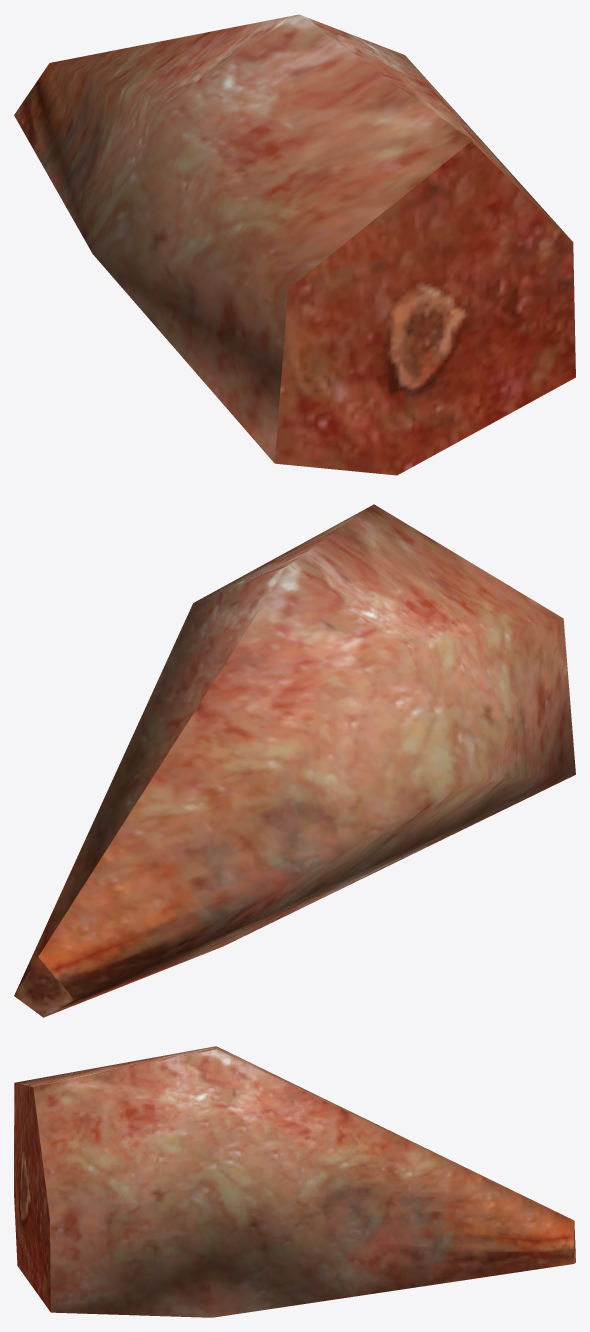
Rendered from edb_all_meat_s01_l2.fbx.
3 renders of one model, top to bottom at view 1: azimuth 30°, elevation 25°; view 2: azimuth 150°, elevation 25°; view 3: azimuth 270°, elevation 25°, orthographic. The views are drawn at different scales.
Visible parts, largest first — view 1: mesh_node; view 2: mesh_node; view 3: mesh_node.
Part boxes in pixels (x1,y1,x2,y2): mesh_node: [14, 14, 575, 475]; mesh_node: [14, 504, 575, 1017]; mesh_node: [14, 1046, 575, 1317].
Bounding box in the file's own units: 0.4131 × 0.3701 × 0.8119.
1 material, 1 textured.
